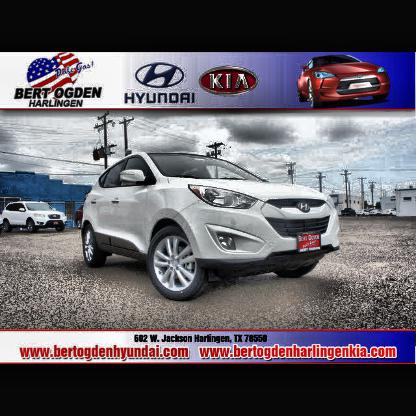Hyundai Tucson SUV 2012: (83, 153, 341, 301)
